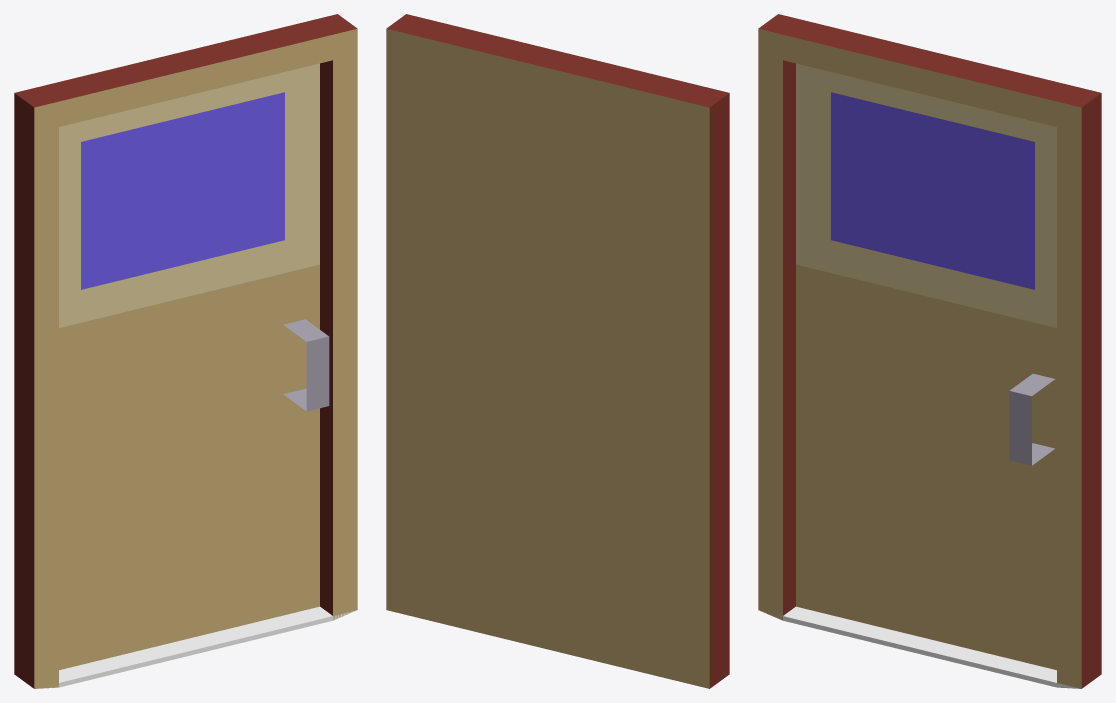
The model's file is door.dae.
The picture shows the model from 3 angles, left to right: view 1: azimuth 30°, elevation 25°; view 2: azimuth 150°, elevation 25°; view 3: azimuth 330°, elevation 25°; orthographic projection.
Visible parts, largest first — view 1: door; view 2: door; view 3: door.
Boxes of the visible parts, <box> form: door: <box>14,14,357,688</box>; door: <box>386,14,729,688</box>; door: <box>758,14,1101,688</box>.
Size of the model in its own units: 1.56 by 0.257 by 2.71.
1 material, 1 textured.
